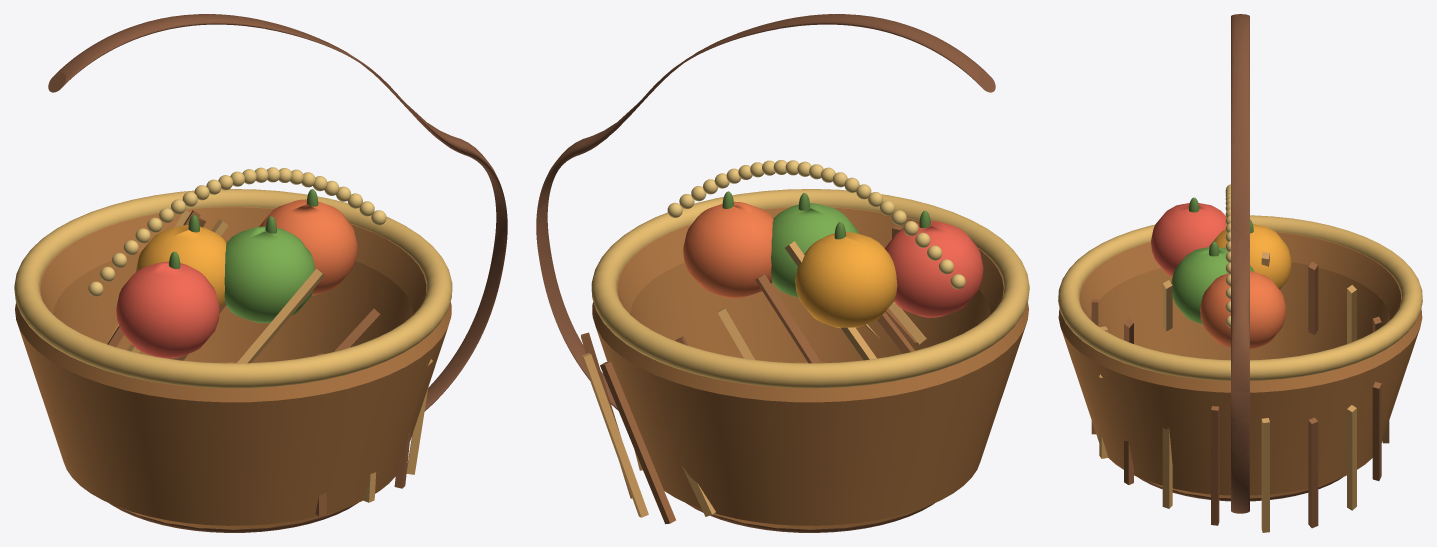
File: gblb_harvest_basket.glb
3 renders of one model, left to right at view 1: azimuth 30°, elevation 25°; view 2: azimuth 150°, elevation 25°; view 3: azimuth 270°, elevation 25°, orthographic. The views are drawn at different scales.
Size of the model in its own units: 0.8362 by 0.8613 by 0.6917.
